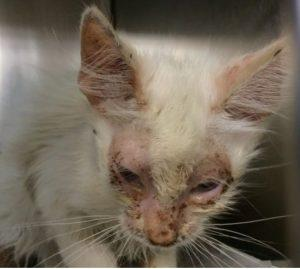ringworm: (115, 143, 154, 177), (151, 200, 187, 232), (197, 148, 234, 179), (125, 184, 144, 214)
